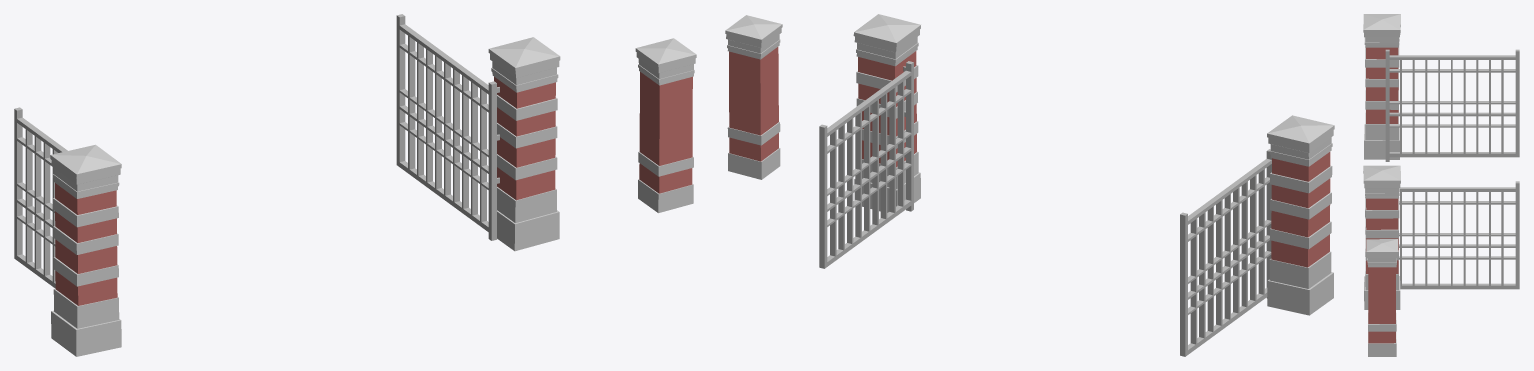
File: EntranceGate.fbx
The picture shows the model from 3 angles, left to right: view 1: azimuth 30°, elevation 25°; view 2: azimuth 150°, elevation 25°; view 3: azimuth 270°, elevation 25°; orthographic projection. The views are drawn at different scales.
Parts seen in each view (by area): view 1: EntranceGate; view 2: EntranceGate; view 3: EntranceGate.
Boxes of the visible parts, x1,y1,x2,y2 form: EntranceGate: [14, 14, 696, 356]; EntranceGate: [725, 14, 1334, 356]; EntranceGate: [1363, 14, 1519, 356].
Size of the model in its own units: 11.24 by 3.24 by 3.46.
